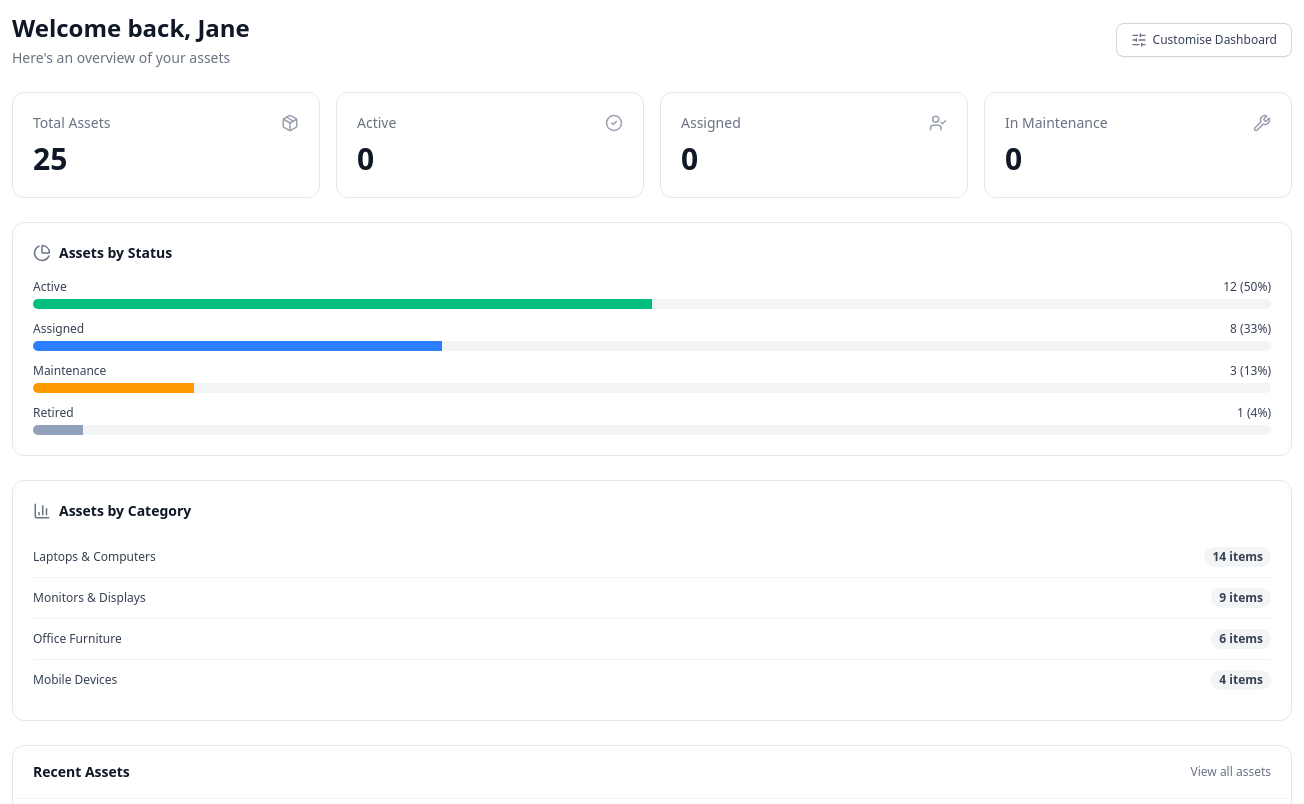
Test: DashboardPage Customization (Issue #1050) › enters edit mode when Customise Dashboard button is clicked
The image size is (1304, 804).
Click the button "Customise Dashboard".
click(1204, 40)  # box [1116, 23, 1292, 57]
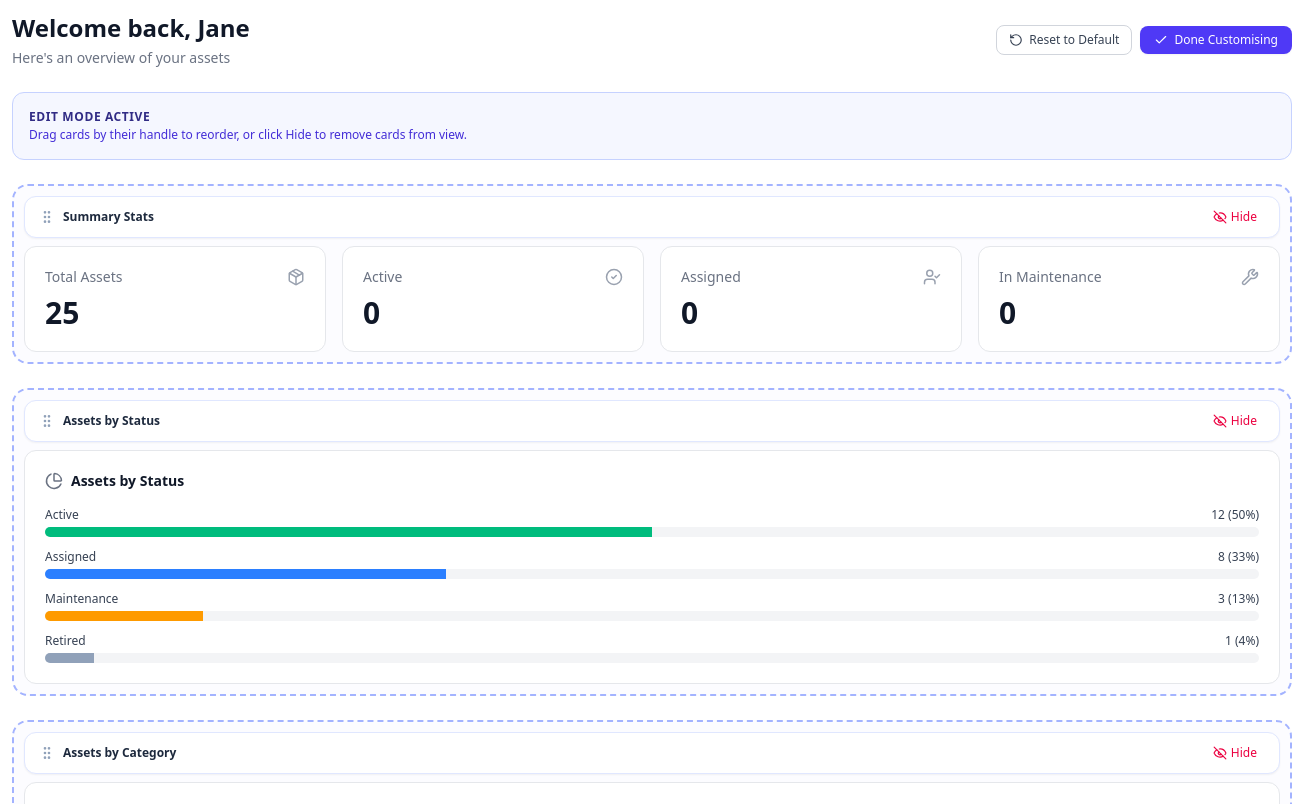
expect the text "Edit Mode Active" is shown: met, box [29, 108, 150, 125]
expect the button "Done Customising" is shown: met, box [1140, 26, 1292, 54]
expect the button "Reset to Default" is shown: met, box [996, 25, 1132, 55]
